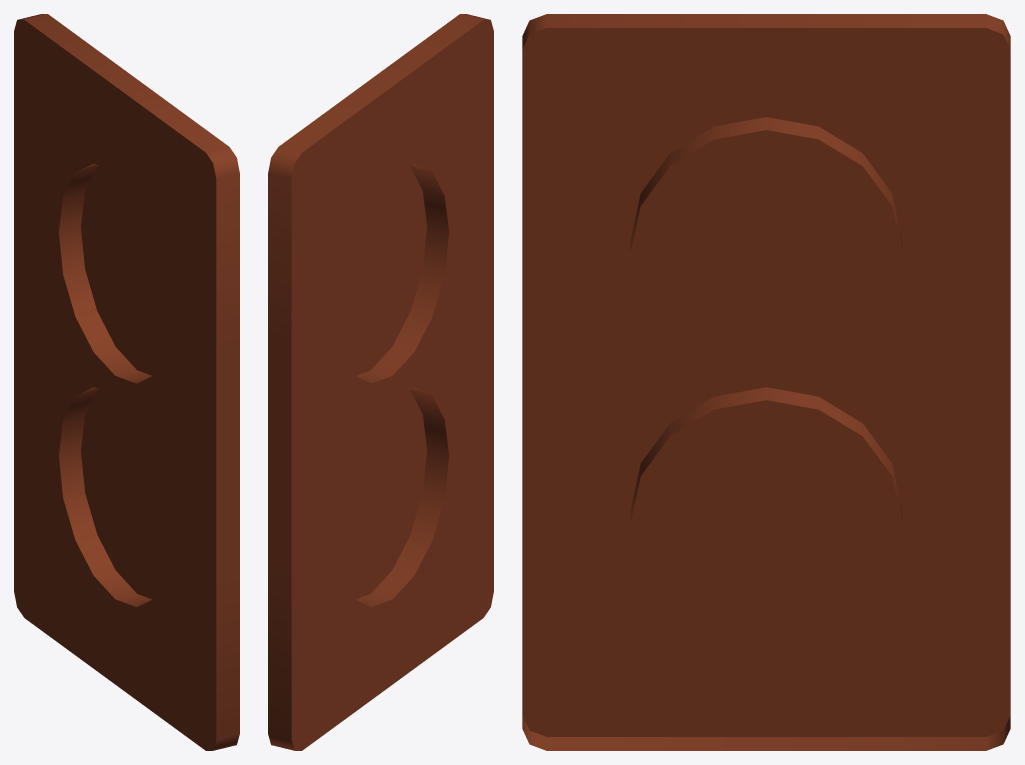
The model's file is Plug.fbx.
The picture shows the model from 3 angles, left to right: view 1: azimuth 30°, elevation 25°; view 2: azimuth 150°, elevation 25°; view 3: azimuth 270°, elevation 25°; orthographic projection. The views are drawn at different scales.
Visible parts, largest first — view 1: Cube.007; view 2: Cube.007; view 3: Cube.007.
Boxes of the visible parts, left/top/right/bottom form: Cube.007: left=14, top=14, right=239, bottom=750; Cube.007: left=268, top=14, right=493, bottom=750; Cube.007: left=522, top=14, right=1010, bottom=750.
Bounding box in the file's own units: 0.5075 × 12.25 × 7.5.
